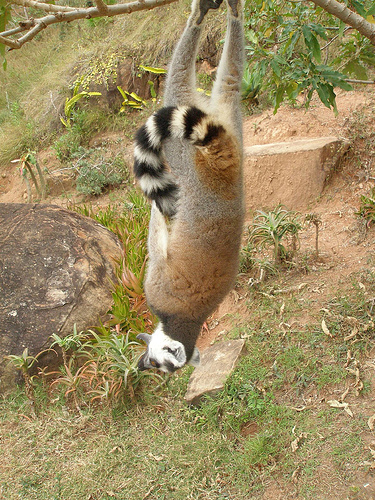cat: (127, 0, 251, 375)
